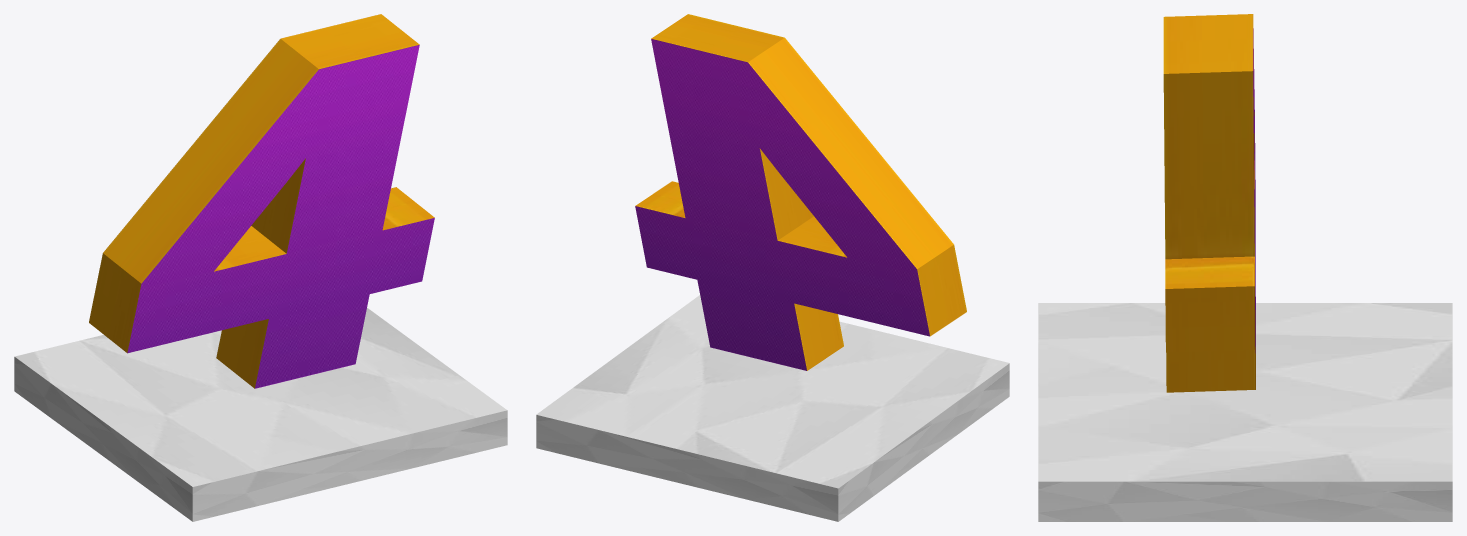
The model's file is CUATRO.DAE.
3 views of the same model, side by side, from view 1: azimuth 30°, elevation 25°; view 2: azimuth 150°, elevation 25°; view 3: azimuth 270°, elevation 25° (orthographic). The views are drawn at different scales.
Parts seen in each view (by area): view 1: Text001, Box001; view 2: Text001, Box001; view 3: Box001, Text001.
Part boxes in pixels (bbox=[...]): Text001: bbox=[89, 14, 434, 388]; Box001: bbox=[14, 307, 507, 521]; Text001: bbox=[635, 14, 966, 370]; Box001: bbox=[536, 295, 1009, 521]; Box001: bbox=[1038, 303, 1452, 521]; Text001: bbox=[1163, 14, 1255, 392].
Bounding box in the file's own units: 144 × 137 × 157.
Materials: 3 (3 with a texture image).
